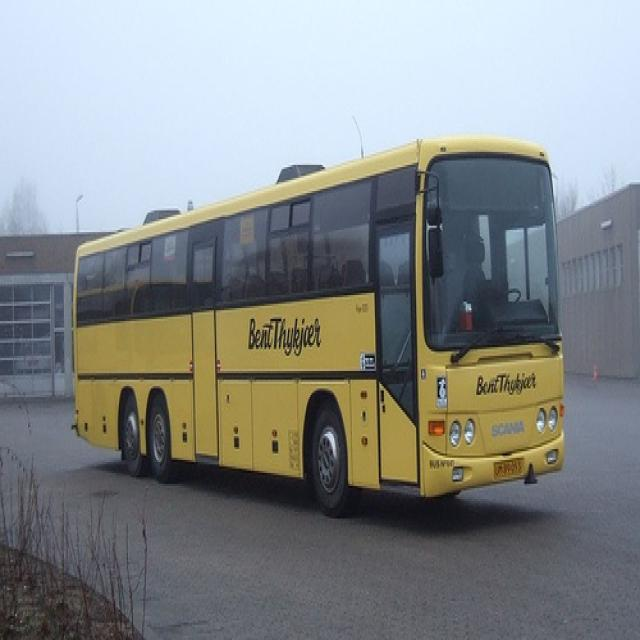bus: (70, 141, 564, 519)
